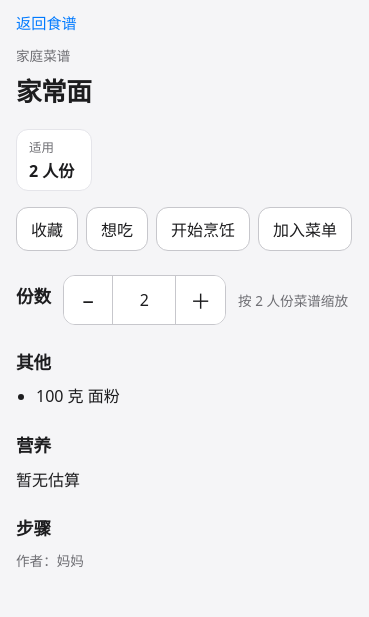
Test case: RecipeDetail › exposes a recoverable alert when a favorite write fails
Click the button "收藏" at (47,229), box top-left (16, 207), bottom-right (78, 251)
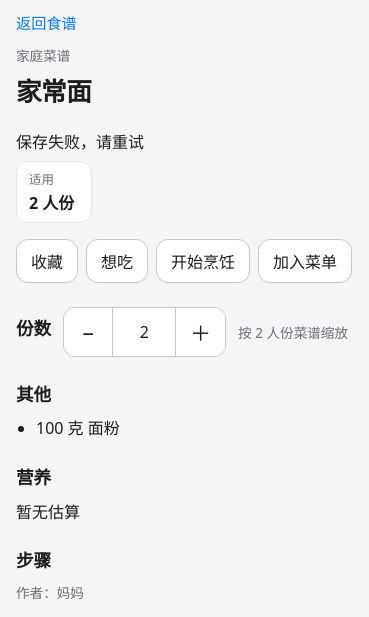
Expected: the button "收藏" is enabled, top-left (16, 239), bottom-right (78, 283)
Expected: the message shows "保存失败", top-left (16, 131), bottom-right (144, 153)
